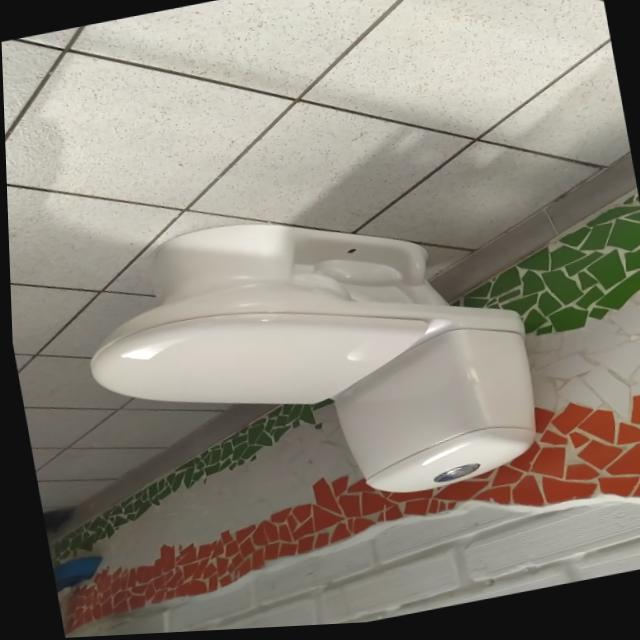toilet: (66, 176, 549, 553)
